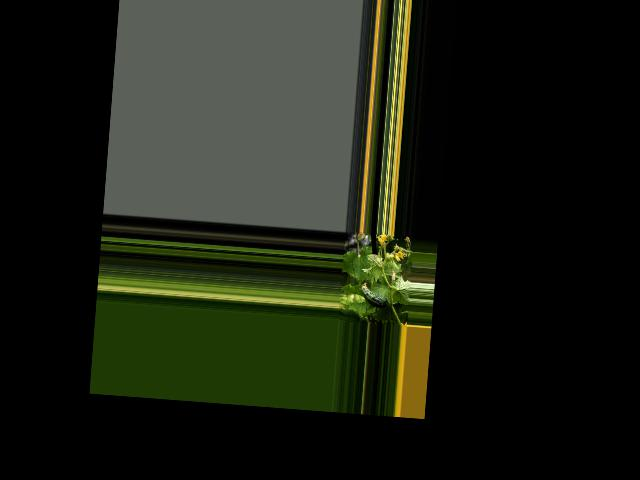cucumber: (359, 281, 389, 308)
